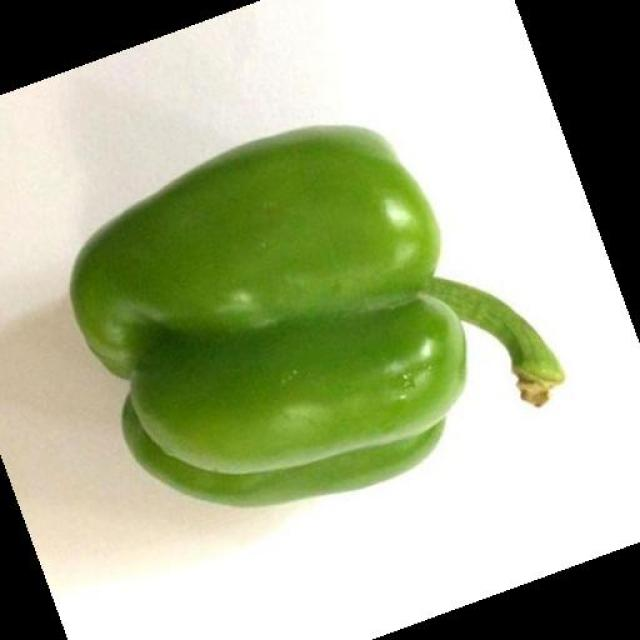Fresh_Capsicum: (71, 142, 534, 486)
